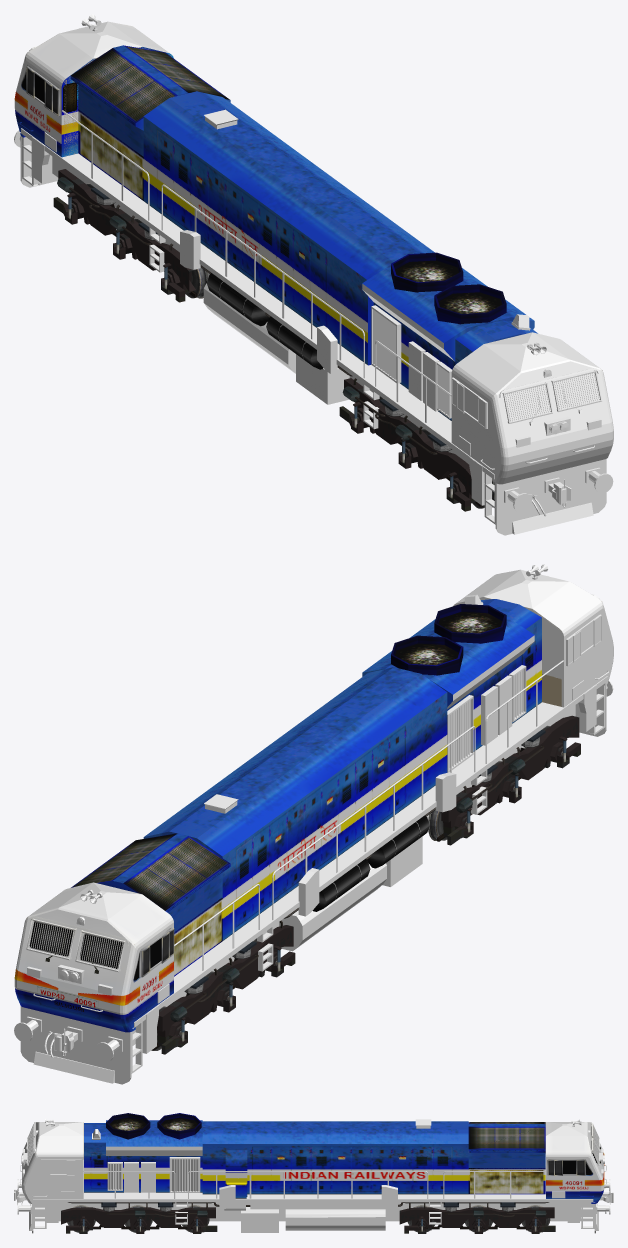
The model's file is loco_wdp4d_siliguri.glb.
3 views of the same model, one above another, from view 1: azimuth 30°, elevation 25°; view 2: azimuth 150°, elevation 25°; view 3: azimuth 270°, elevation 25° (orthographic). The views are drawn at different scales.
Visible parts, largest first — view 1: wdp4d_siliguri__wdp4d_gd.glb; view 2: wdp4d_siliguri__wdp4d_gd.glb; view 3: wdp4d_siliguri__wdp4d_gd.glb.
Boxes of the visible parts, x1=… form: wdp4d_siliguri__wdp4d_gd.glb: x1=14, y1=14, x2=613, y2=535; wdp4d_siliguri__wdp4d_gd.glb: x1=14, y1=564, x2=613, y2=1084; wdp4d_siliguri__wdp4d_gd.glb: x1=14, y1=1113, x2=613, y2=1233.
Bounding box in the file's own units: 3.18 × 4.27 × 22.19.
Materials: 9 (7 with a texture image).
